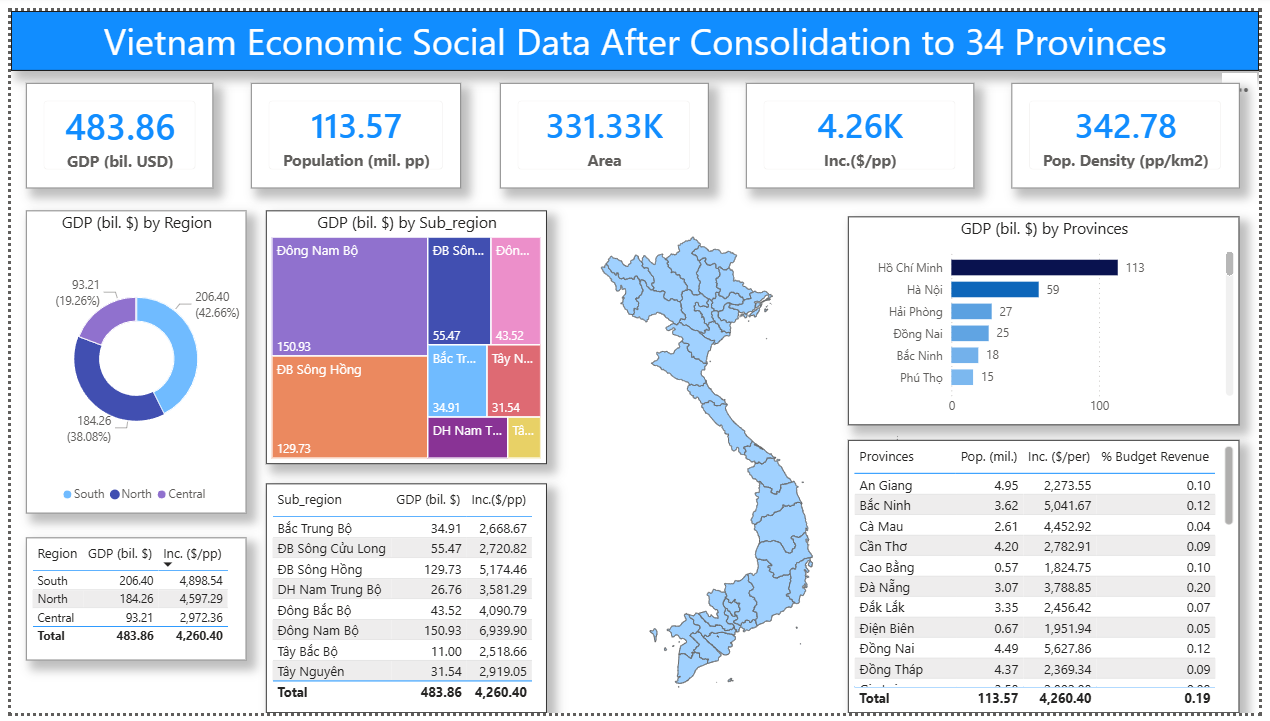

This screenshot's page, from the dashboard's own definition file:
{"tool":"powerbi","page":{"name":"Dashboard","canvas":[1280,720],"ordinal":0},"visuals":[{"type":"shapeMap","fields":{"Category":["Sheet1.Map_34"]},"box":[564.6,204.6,461.5,515.4],"z":0},{"type":"shape","box":[0,0,1279.9,61.2],"z":1000},{"type":"textbox","box":[0,0,1280.5,61.6],"z":2000},{"type":"cardVisual","fields":{"Data":["Map_34.GDP (Billion USD)"]},"box":[15.4,73.8,192.3,107.7],"z":3000},{"type":"cardVisual","fields":{"Data":["Map_34.Population (Million People)"]},"box":[246.5,73.8,215.4,107.7],"z":4000},{"type":"cardVisual","fields":{"Data":["Sum(Provincial economic data.Diện tích (km2))"]},"box":[500.8,73.8,213.8,107.7],"z":5000},{"type":"cardVisual","fields":{"Data":["Map_34.Income Per Capita (USD/person)"]},"box":[753.5,73.8,233.8,107.7],"z":6000},{"type":"cardVisual","fields":{"Data":["Map_34.Population Density (people/km2)"]},"box":[1026.2,73.8,233.8,107.7],"z":7000},{"type":"donutChart","fields":{"Category":["Regions of Vietnam.Region"],"Y":["Map_34.GDP (Billion USD)"]},"box":[15.4,204.6,226.2,310.8],"z":8000},{"type":"tableEx","fields":{"Values":["Regions of Vietnam.Region","Map_34.GDP (Billion USD)","Map_34.Income Per Capita ($/person)"]},"box":[15.4,540,226.2,126.2],"z":9000},{"type":"clusteredBarChart","fields":{"Y":["Map_34.GDP (Billion USD)"],"Category":["Regions of Vietnam.Provinces"]},"box":[858.5,210.8,401.5,213.8],"z":12000},{"type":"tableEx","fields":{"Values":["Regions of Vietnam.Provinces","Map_34.Population (Million People)","Map_34.Income Per Capita ($/person)","Map_34.Budget Revenue Percentage"]},"box":[858.5,440,401.5,280],"z":13000},{"type":"treemap","fields":{"Group":["Regions of Vietnam.Sub_region"],"Values":["Map_34.GDP (Billion USD)"]},"box":[261.5,204.6,287.7,260],"z":13001},{"type":"tableEx","fields":{"Values":["Regions of Vietnam.Sub_region","Map_34.GDP (Billion USD)","Map_34.Income Per Capita ($/person)"]},"box":[261.5,484.6,287.7,235.4],"z":13002}]}

Visuals, with their boxes in screenshot pixels (x1, y1, x2, y2), scaled from the page's 1280x720 canvas onto the 1270x721 screenshot:
shapeMap - Sheet1.Map_34: [x1=560, y1=205, x2=1018, y2=720]
shape: [x1=0, y1=0, x2=1269, y2=61]
textbox: [x1=0, y1=0, x2=1269, y2=62]
cardVisual - Map_34.GDP (Billion USD): [x1=15, y1=74, x2=206, y2=182]
cardVisual - Map_34.Population (Million People): [x1=245, y1=74, x2=458, y2=182]
cardVisual - Sum(Provincial economic data.Diện tích (km2)): [x1=497, y1=74, x2=709, y2=182]
cardVisual - Map_34.Income Per Capita (USD/person): [x1=748, y1=74, x2=980, y2=182]
cardVisual - Map_34.Population Density (people/km2): [x1=1018, y1=74, x2=1250, y2=182]
donutChart - Regions of Vietnam.Region x Map_34.GDP (Billion USD): [x1=15, y1=205, x2=240, y2=516]
tableEx - Regions of Vietnam.Region x Map_34.GDP (Billion USD): [x1=15, y1=541, x2=240, y2=667]
clusteredBarChart - Map_34.GDP (Billion USD) x Regions of Vietnam.Provinces: [x1=852, y1=211, x2=1250, y2=425]
tableEx - Regions of Vietnam.Provinces x Map_34.Population (Million People): [x1=852, y1=441, x2=1250, y2=720]
treemap - Regions of Vietnam.Sub_region x Map_34.GDP (Billion USD): [x1=259, y1=205, x2=545, y2=465]
tableEx - Regions of Vietnam.Sub_region x Map_34.GDP (Billion USD): [x1=259, y1=485, x2=545, y2=720]
